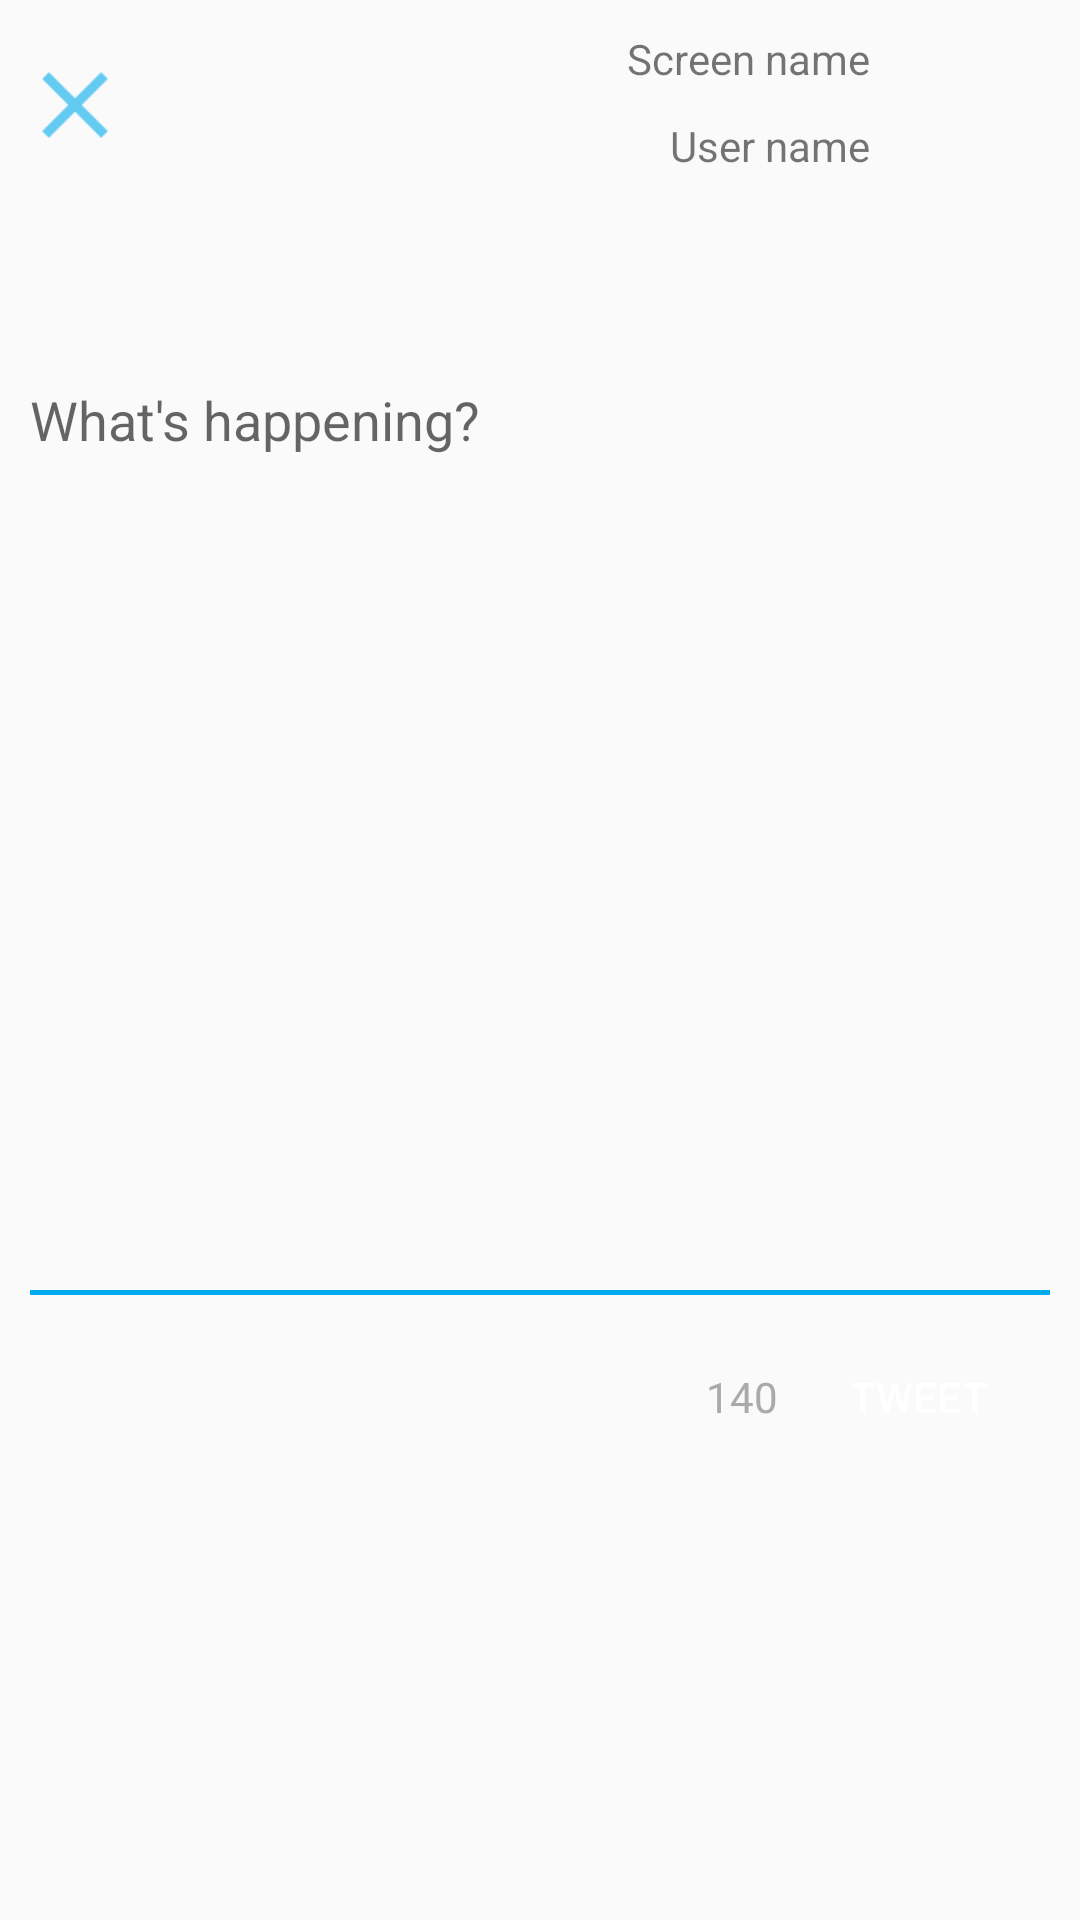

Named icons in this screenshot (1080×1920) and their centers, (x=x, y=y):
cancel: (x=75, y=105)
